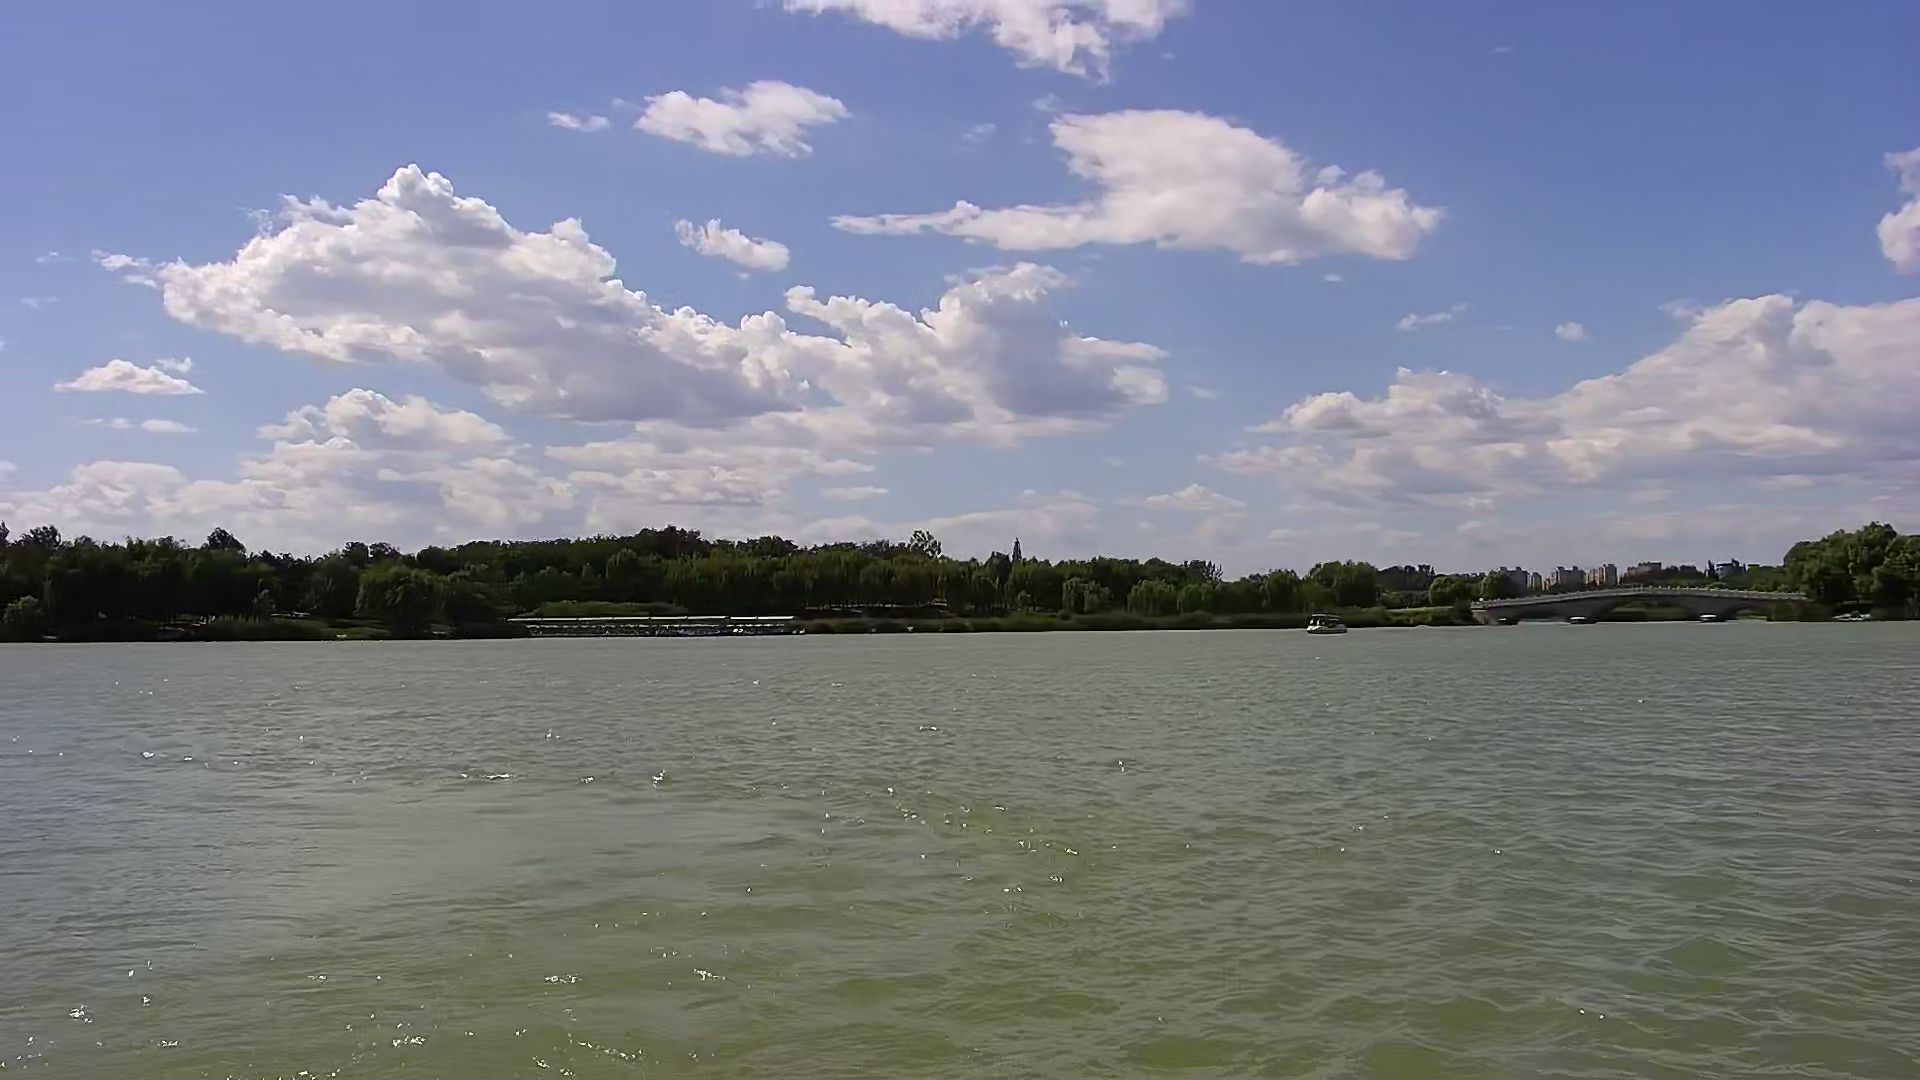boat: (1300, 611, 1350, 636)
bridge: (1482, 588, 1807, 626), (512, 615, 802, 636)
